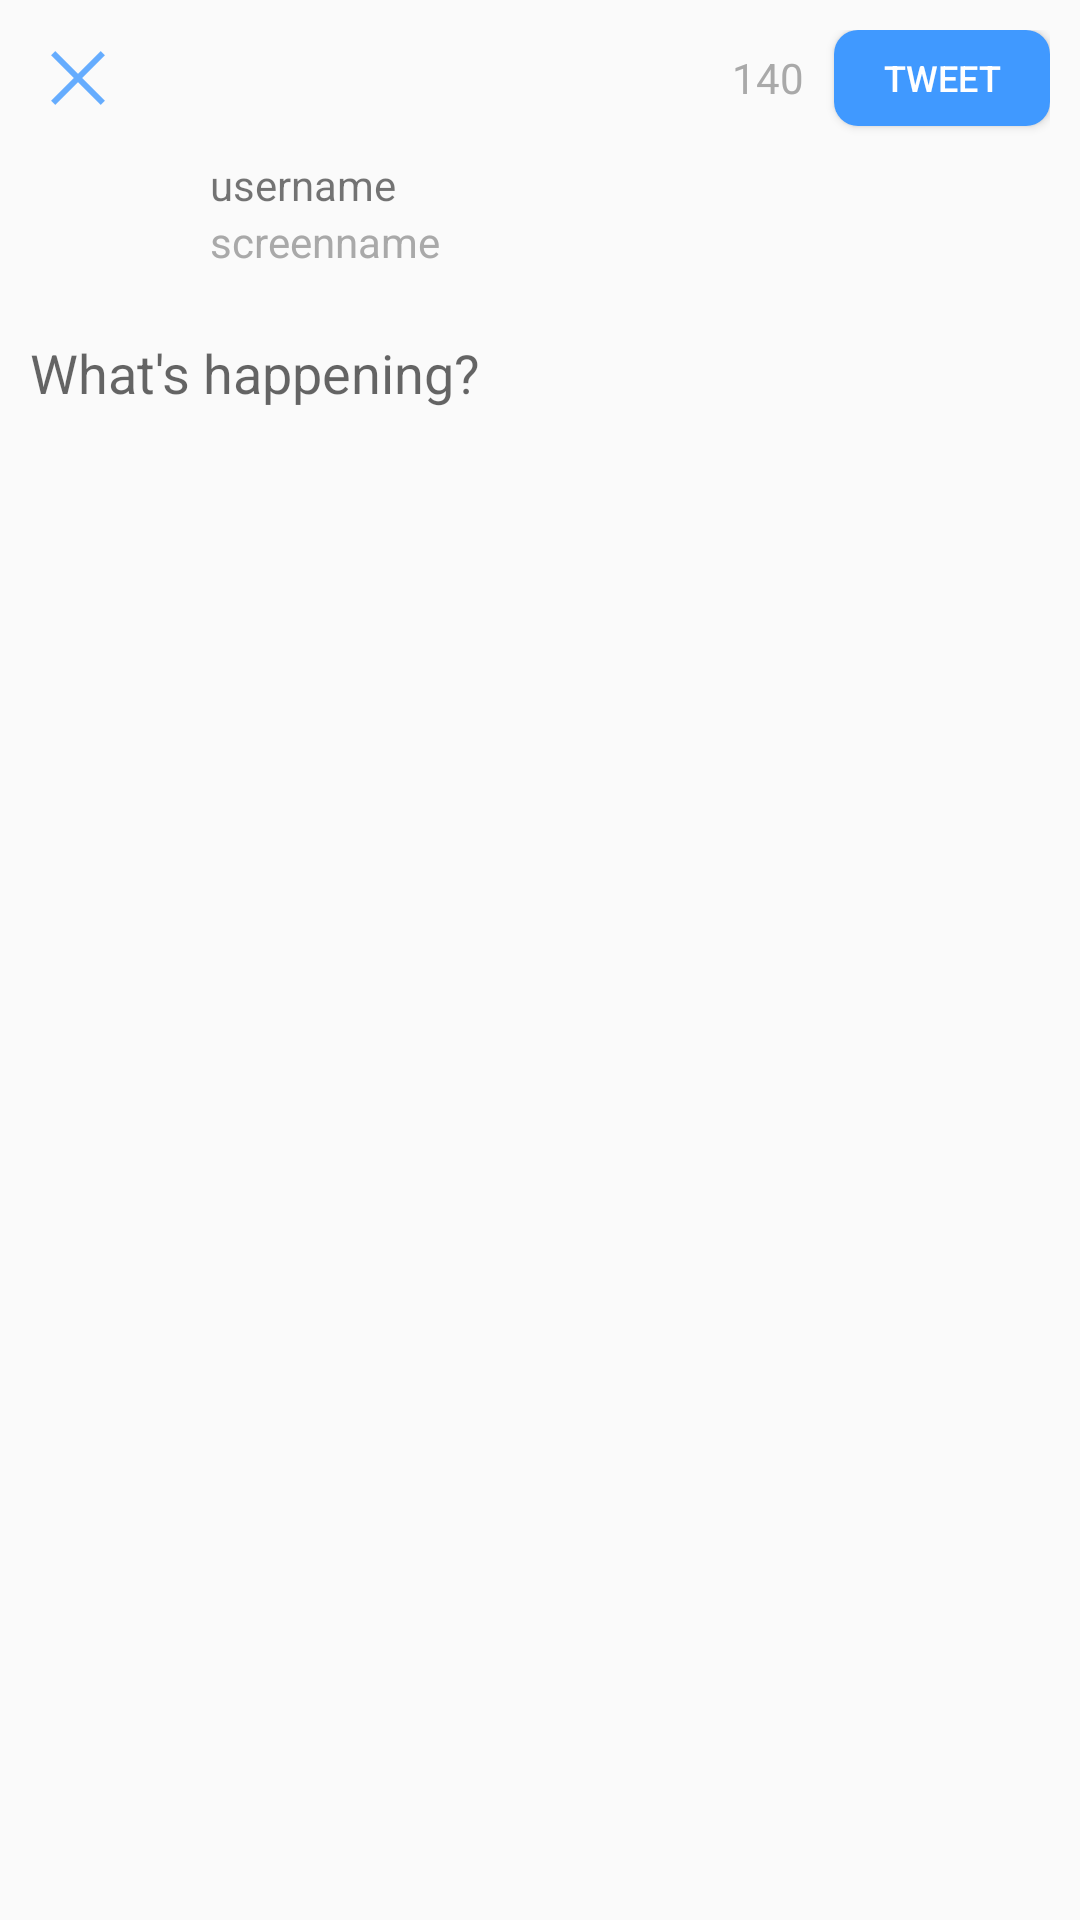

Named icons in this screenshot (1080 x 1920) and their centers, (x=x, y=y):
cancel: (x=78, y=78)
